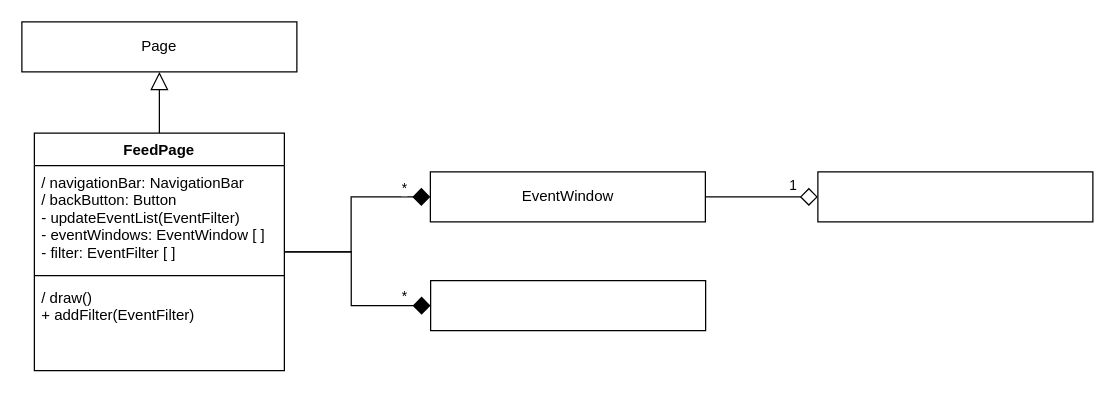
Image size: 1115x396. Some labels were removed from this diagram. Each missing label, with the centre of its shape:
"Event" goes at [955,196].
"EventFilter" goes at [567,305].
